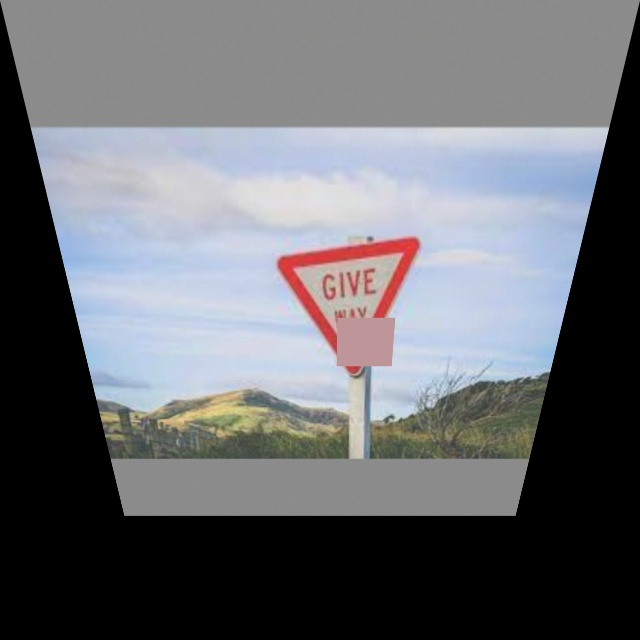Give_Way: (277, 241, 423, 372)
